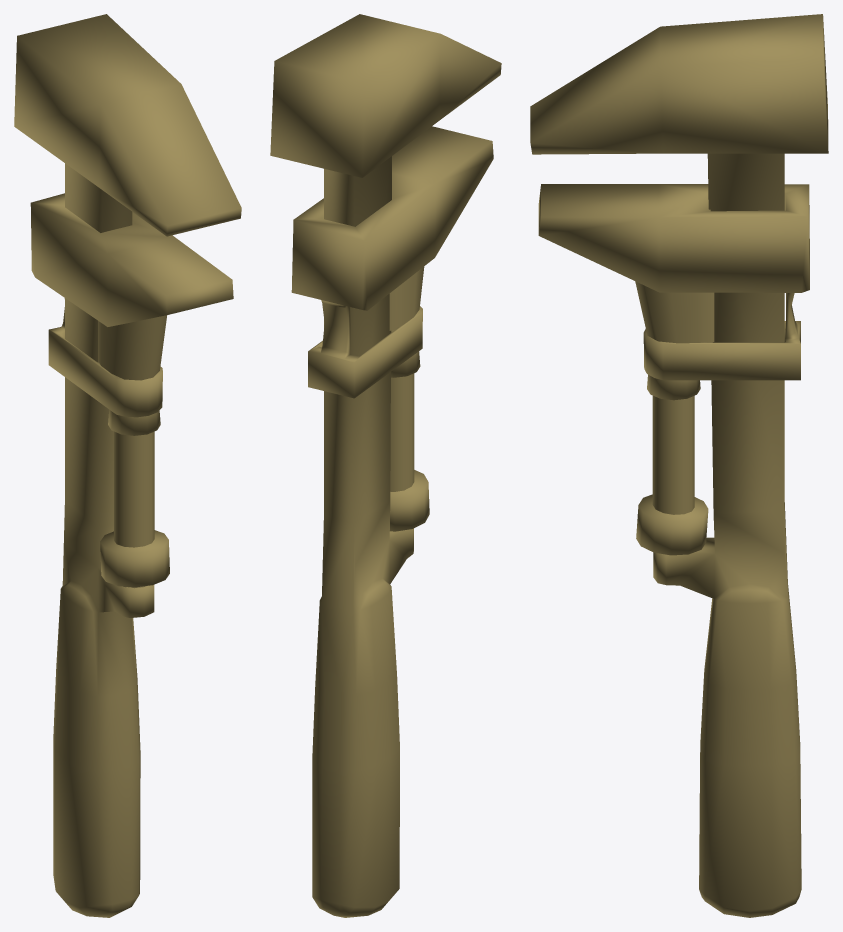
File: Wrench.obj
3 renders of one model, left to right at view 1: azimuth 30°, elevation 25°; view 2: azimuth 150°, elevation 25°; view 3: azimuth 270°, elevation 25°, orthographic.
Parts seen in each view (by area): view 1: w_wrench_reference_lod1; view 2: w_wrench_reference_lod1; view 3: w_wrench_reference_lod1.
Part boxes in pixels (x1,y1,x2,y2): w_wrench_reference_lod1: (14, 14, 241, 917); w_wrench_reference_lod1: (270, 14, 501, 917); w_wrench_reference_lod1: (530, 14, 828, 917).
Size of the model in its own units: 3.14 by 28.33 by 8.71.
